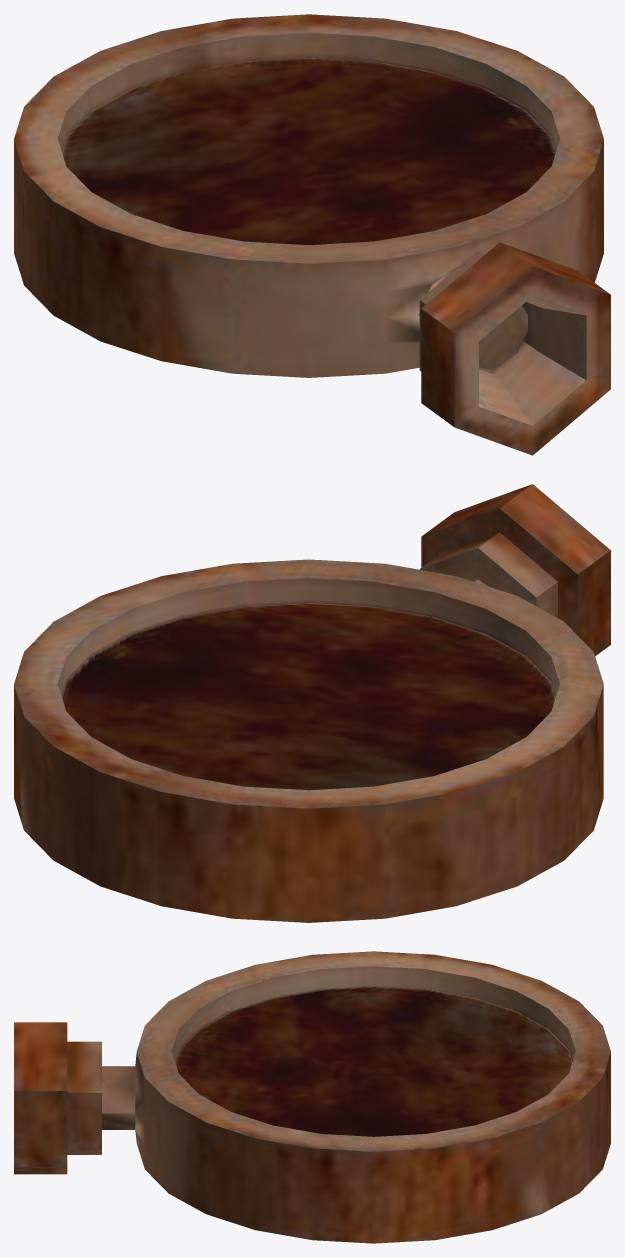
File: small_copper_pipe_19.glb
3 views of the same model, one above another, from view 1: azimuth 30°, elevation 25°; view 2: azimuth 150°, elevation 25°; view 3: azimuth 270°, elevation 25° (orthographic). The views are drawn at different scales.
Parts seen in each view (by area): view 1: small_copper_pipe_19; view 2: small_copper_pipe_19; view 3: small_copper_pipe_19.
Boxes of the visible parts, left/top/right/bottom form: small_copper_pipe_19: left=14, top=14, right=610, bottom=455; small_copper_pipe_19: left=14, top=484, right=610, bottom=922; small_copper_pipe_19: left=14, top=951, right=610, bottom=1243.
Size of what is drawn, in the model's own units: 0.0588 by 0.0208 by 0.074.
1 material, 1 textured.
